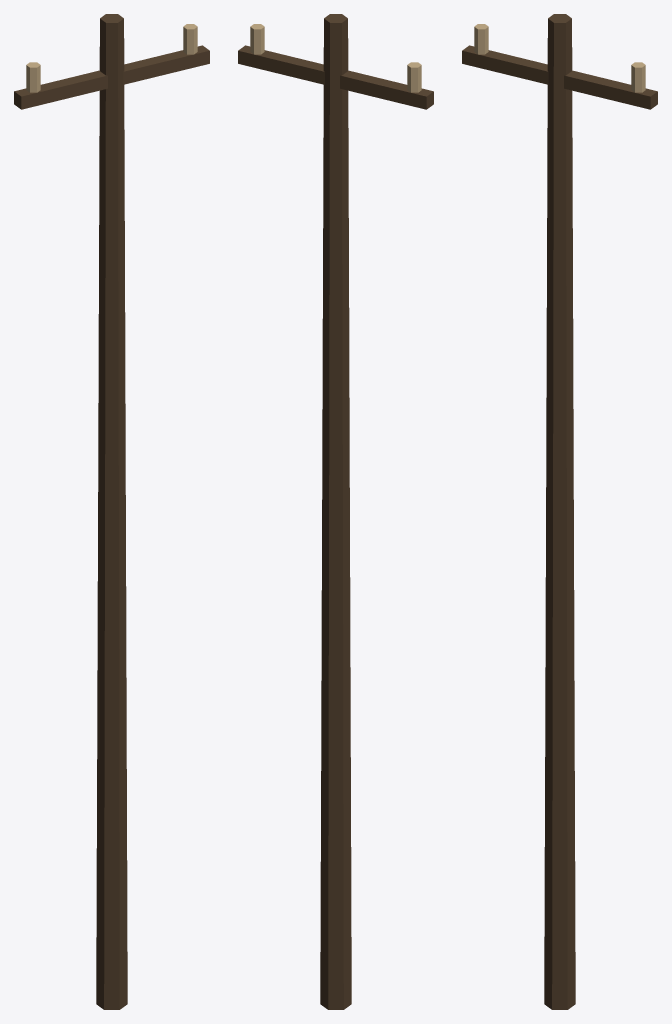
File: pole.glb
3 views of the same model, side by side, from view 1: azimuth 30°, elevation 25°; view 2: azimuth 150°, elevation 25°; view 3: azimuth 330°, elevation 25° (orthographic).
Visible parts, largest first — view 1: pole; view 2: pole; view 3: pole.
Boxes of the visible parts, x1,y1,x2,y2 form: pole: (14, 14, 209, 1009); pole: (238, 14, 433, 1009); pole: (462, 14, 657, 1009).
Size of the model in its own units: 1.8 by 9 by 0.2598.
